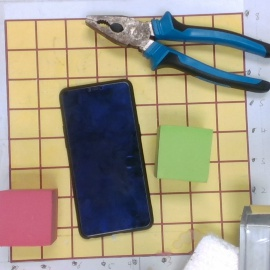phone: (58, 79, 155, 239)
